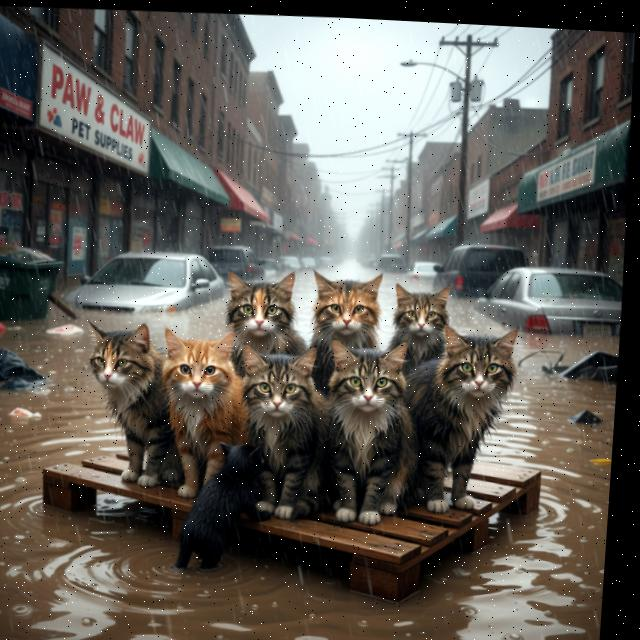cat: (385, 314, 524, 518), (218, 332, 341, 529), (309, 336, 429, 531), (69, 318, 193, 499), (144, 321, 267, 502), (161, 429, 276, 585), (213, 265, 310, 366), (300, 262, 391, 362), (384, 282, 454, 374)
